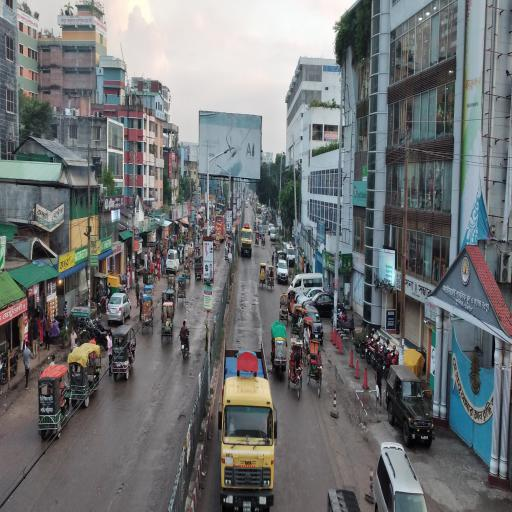ambulance: (287, 244, 296, 266)
army vehicle: (386, 363, 436, 447)
auto rickshaw: (39, 366, 72, 439), (70, 344, 103, 409), (113, 326, 137, 380), (271, 322, 288, 382), (195, 257, 204, 281), (259, 226, 264, 240)
bus: (216, 216, 227, 241)
car: (107, 292, 132, 325), (305, 294, 342, 316), (307, 308, 324, 342), (298, 288, 325, 307)
motorbike: (356, 329, 377, 356), (180, 319, 191, 360), (366, 342, 386, 363), (377, 349, 397, 369), (94, 326, 109, 351), (338, 312, 355, 331), (98, 319, 113, 336), (97, 294, 109, 314)
pickup: (277, 250, 290, 282), (263, 216, 267, 225)
rickshaw: (308, 340, 323, 398), (290, 339, 304, 401), (162, 302, 175, 345), (303, 318, 314, 367), (142, 295, 155, 335), (291, 304, 303, 340), (281, 293, 290, 325), (179, 277, 188, 304), (169, 275, 178, 302), (268, 267, 276, 294), (260, 263, 267, 291), (185, 260, 193, 284), (189, 247, 195, 268), (216, 234, 221, 250), (262, 235, 267, 251), (256, 232, 260, 248), (258, 222, 261, 232), (255, 223, 258, 232)
three wheelers (CNG): (178, 245, 186, 264)
truck: (221, 341, 276, 512), (242, 224, 254, 259), (257, 202, 262, 215)
van: (374, 439, 425, 512), (289, 275, 324, 302), (166, 249, 181, 274), (271, 227, 277, 241), (269, 224, 274, 235)
